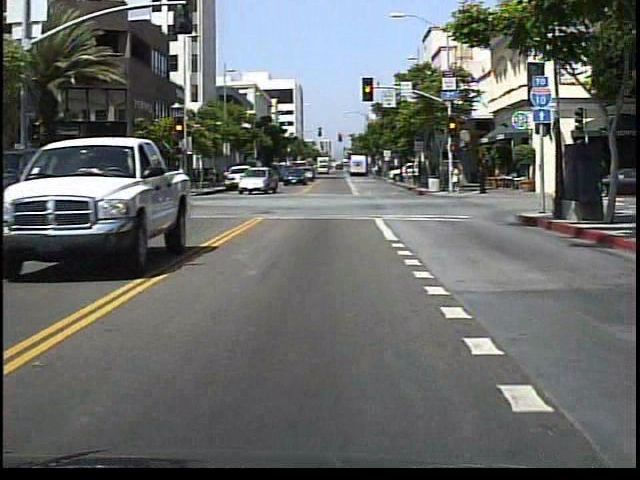person: (474, 162, 489, 196), (450, 162, 464, 197), (167, 166, 181, 196)
